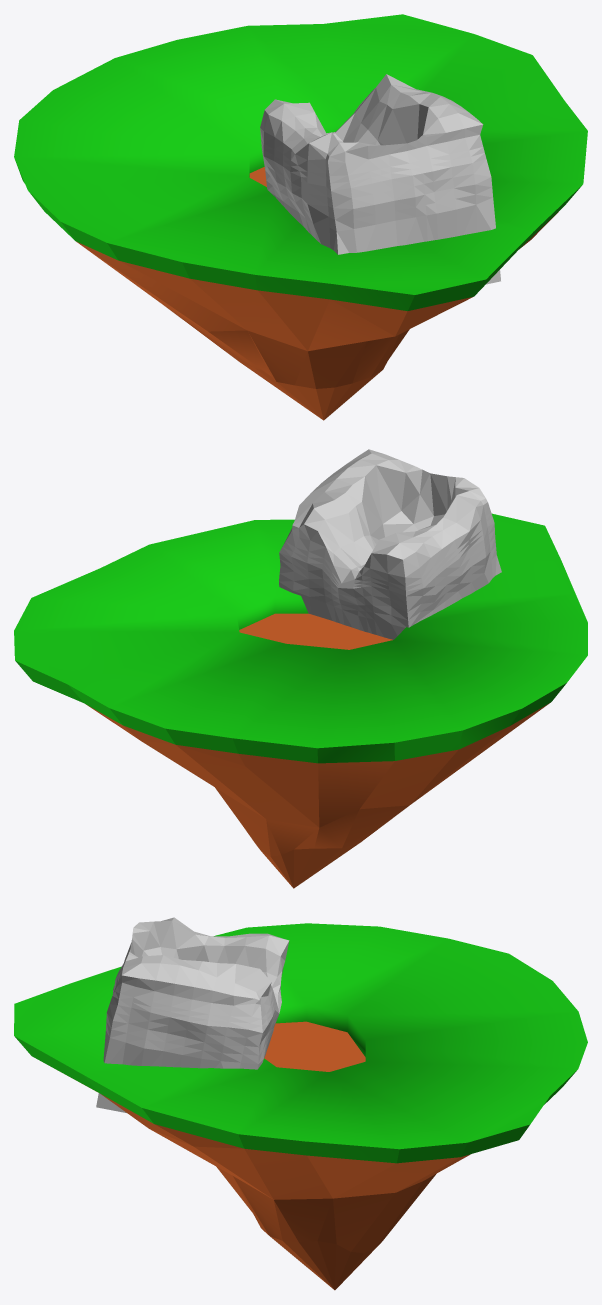
Rendered from island.obj.
The picture shows the model from 3 angles, top to bottom: view 1: azimuth 30°, elevation 25°; view 2: azimuth 150°, elevation 25°; view 3: azimuth 270°, elevation 25°; orthographic projection. The views are drawn at different scales.
Visible parts, largest first — view 1: IslandTop_Grass_Cylinder.002, Rock_Cube.004, IslandBottom_Dirt_Cylinder.001; view 2: IslandTop_Grass_Cylinder.002, Rock_Cube.004, IslandBottom_Dirt_Cylinder.001, PondBottom_Plane; view 3: IslandTop_Grass_Cylinder.002, Rock_Cube.004, IslandBottom_Dirt_Cylinder.001, PondBottom_Plane.
Boxes of the visible parts, box(x1,y1,x2,y2) form: IslandTop_Grass_Cylinder.002: box(14, 14, 587, 311); Rock_Cube.004: box(260, 74, 500, 284); IslandBottom_Dirt_Cylinder.001: box(76, 211, 558, 420); IslandTop_Grass_Cylinder.002: box(14, 513, 587, 763); Rock_Cube.004: box(279, 449, 501, 639); IslandBottom_Dirt_Cylinder.001: box(86, 702, 550, 888); PondBottom_Plane: box(239, 613, 392, 649); IslandTop_Grass_Cylinder.002: box(14, 923, 587, 1163); Rock_Cube.004: box(96, 917, 289, 1112); IslandBottom_Dirt_Cylinder.001: box(57, 1070, 470, 1290); PondBottom_Plane: box(264, 1021, 365, 1071).
Size of the model in its own units: 37.3 by 26.01 by 39.9.
